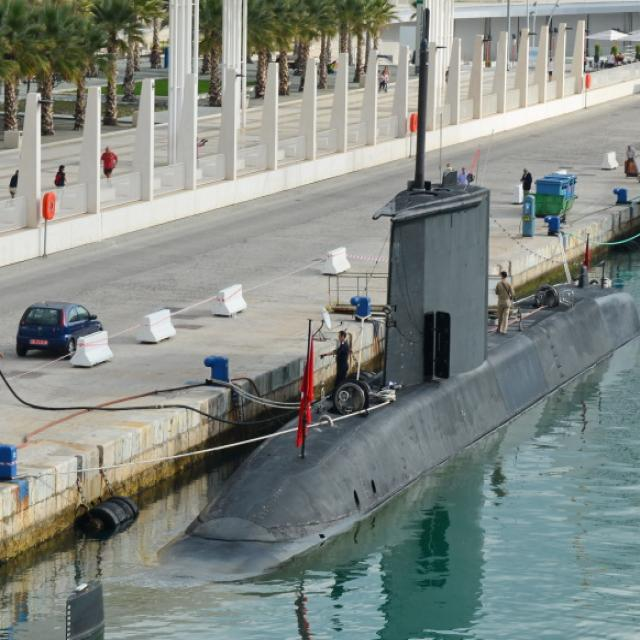submarine: (156, 182, 640, 580)
